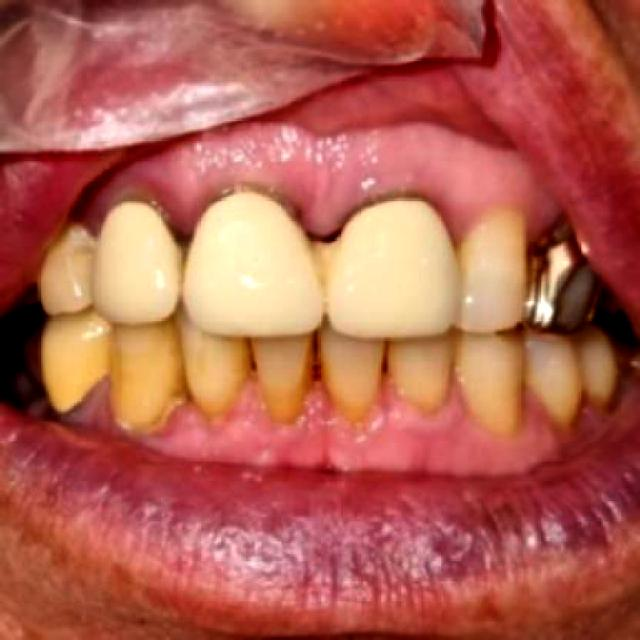Plaque: (87, 125, 562, 245)
